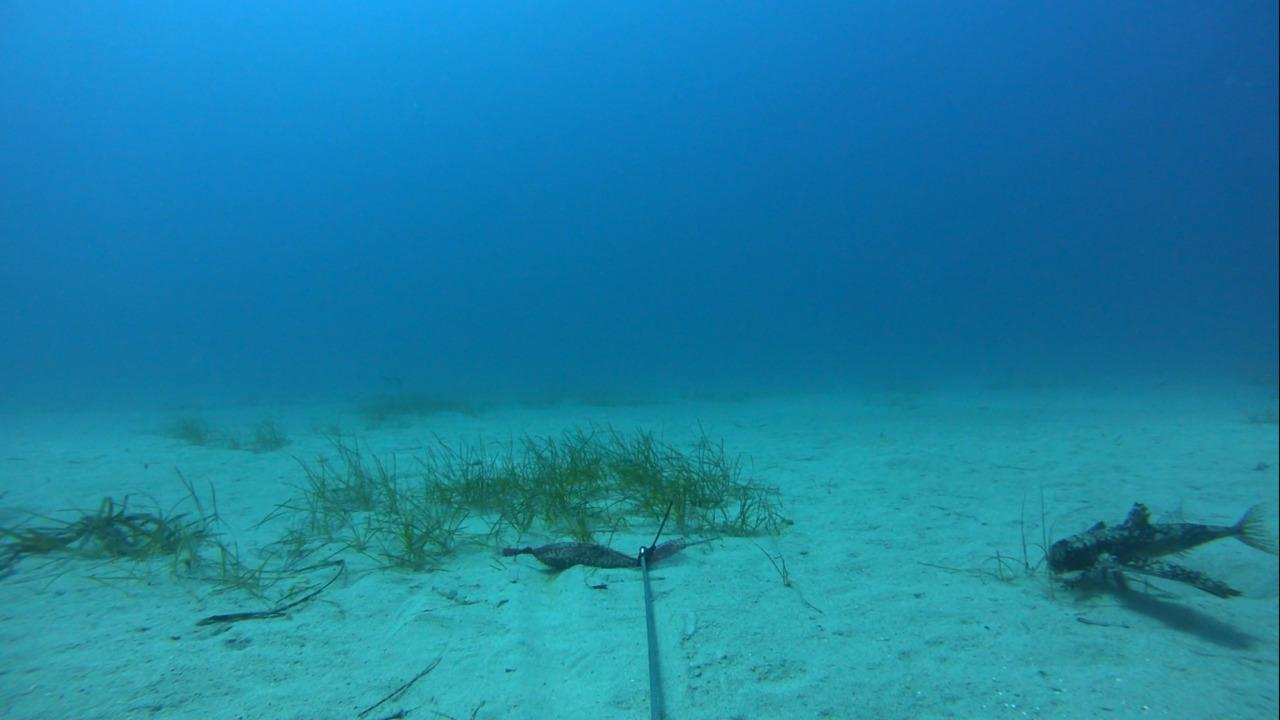dactylopterus: (1045, 495, 1274, 602)
